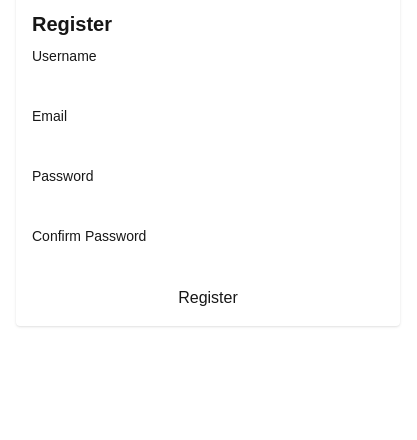
Test case: RegisterForm › renders and validates fields
Click the button "Register" at (208, 298), box [32, 286, 384, 310]
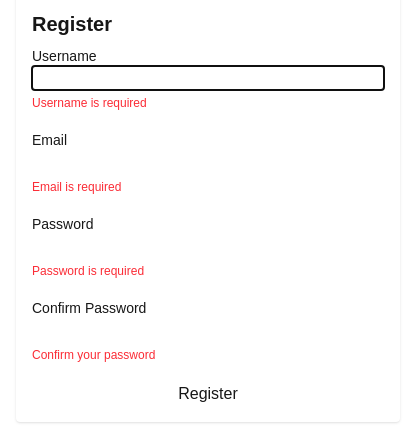
Check: the text "Username is required" is shown, box [32, 96, 147, 110]
Check: the text "Email is required" is shown, box [32, 180, 121, 194]
Check: the text "Password is required" is shown, box [32, 264, 144, 278]
